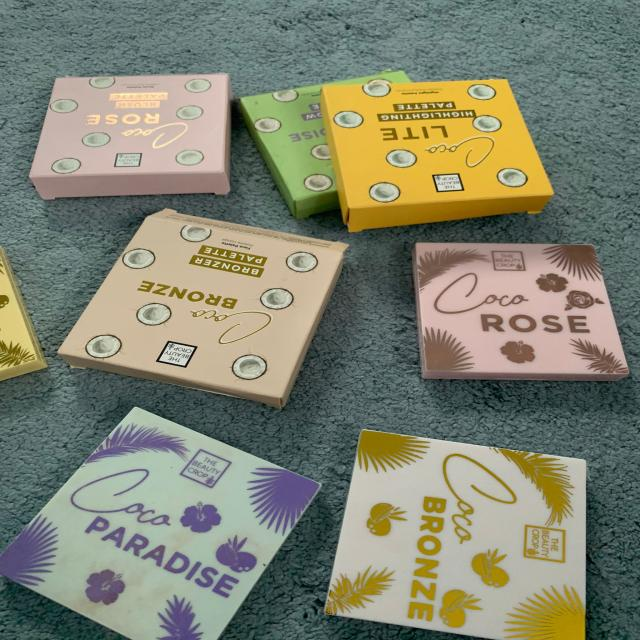makeup: (314, 408, 632, 640), (0, 416, 317, 640), (57, 193, 357, 409), (238, 63, 559, 227), (382, 222, 640, 399), (25, 56, 248, 222)
